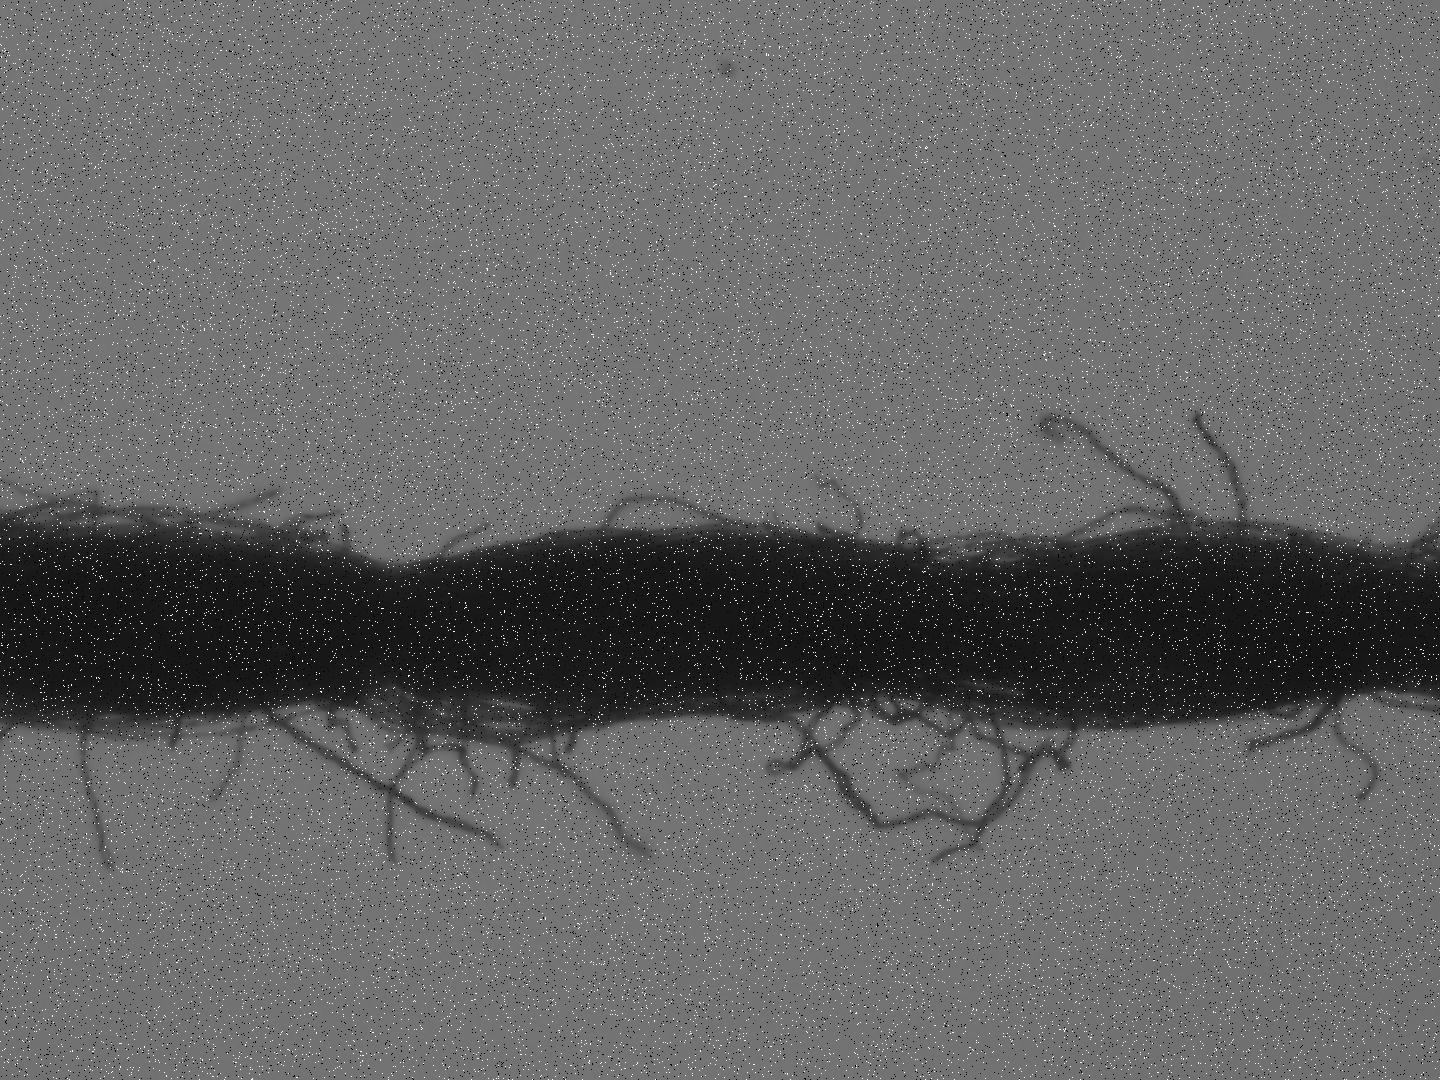loop_fiber: (749, 702, 1071, 829), (34, 505, 289, 551), (351, 689, 582, 740), (595, 492, 810, 543), (1043, 504, 1209, 554), (769, 694, 862, 778), (5, 499, 161, 543), (966, 714, 1077, 770), (932, 534, 1069, 565), (914, 530, 1035, 563), (889, 693, 969, 739), (858, 698, 937, 728), (888, 532, 929, 564), (1259, 701, 1307, 725)
protruding_fiber: (424, 699, 650, 862), (262, 707, 502, 854), (1039, 414, 1194, 546), (1187, 406, 1251, 540), (75, 719, 111, 874), (1329, 700, 1379, 799), (1250, 700, 1331, 752), (815, 471, 864, 543), (164, 718, 184, 751)
